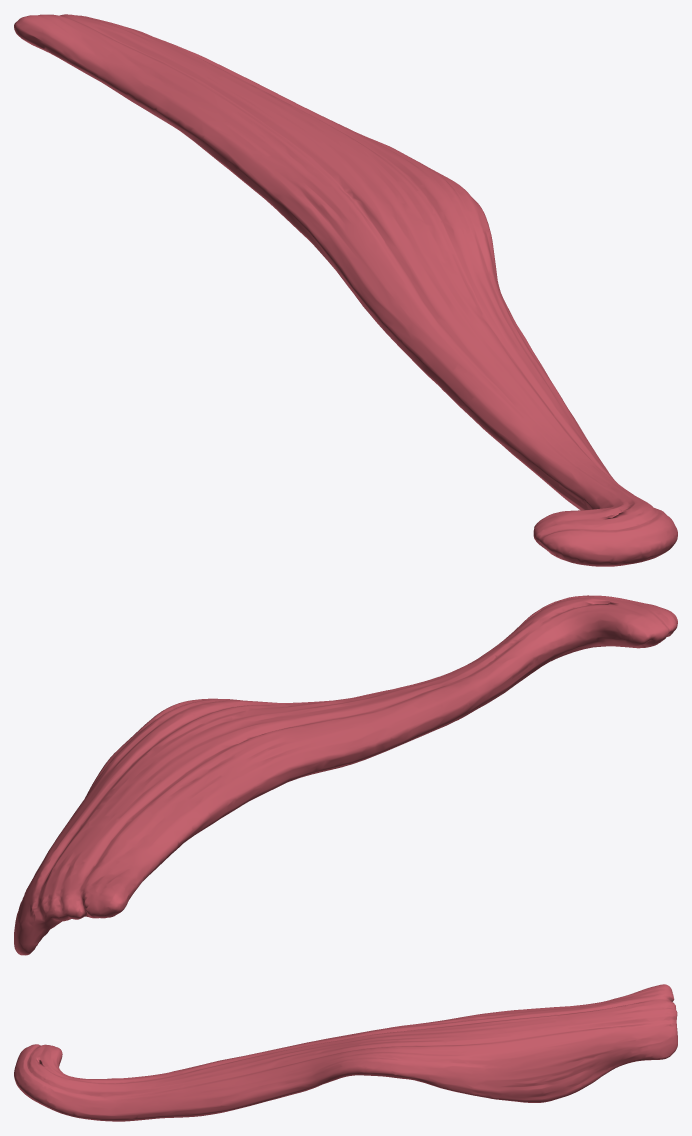
3 views of the same model, one above another, from view 1: azimuth 30°, elevation 25°; view 2: azimuth 150°, elevation 25°; view 3: azimuth 270°, elevation 25° (orthographic). The views are drawn at different scales.
Visible parts, largest first — view 1: 左侧腭咽肌; view 2: 左侧腭咽肌; view 3: 左侧腭咽肌.
Part boxes in pixels (bbox=[...]): 左侧腭咽肌: bbox=[14, 14, 677, 566]; 左侧腭咽肌: bbox=[14, 595, 677, 955]; 左侧腭咽肌: bbox=[14, 984, 677, 1121].
Size of the model in its own units: 0.0302 by 0.0225 by 0.1297.
